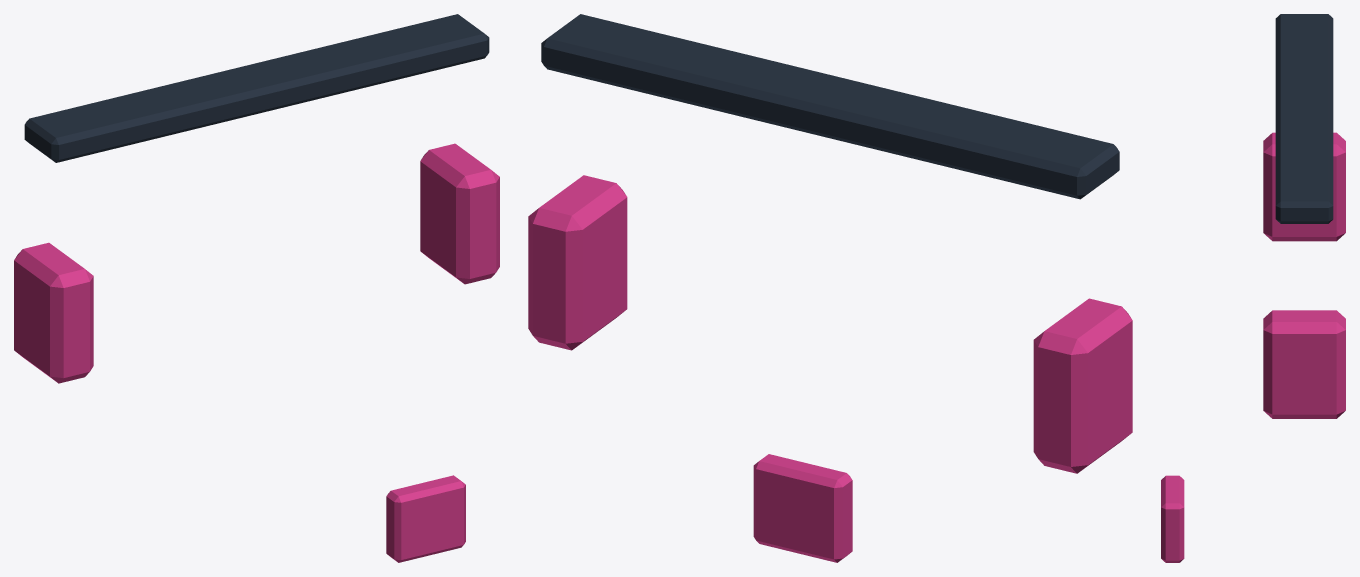
The model's file is influencer.glb.
3 renders of one model, left to right at view 1: azimuth 30°, elevation 25°; view 2: azimuth 150°, elevation 25°; view 3: azimuth 270°, elevation 25°, orthographic. The views are drawn at different scales.
Parts seen in each view (by area): view 1: influencer_head, influencer_torso; view 2: influencer_head, influencer_torso; view 3: influencer_head, influencer_torso.
Boxes of the visible parts, x1=… form: influencer_head: x1=14, y1=14, x2=499, y2=383; influencer_torso: x1=386, y1=475, x2=465, y2=562; influencer_head: x1=528, y1=14, x2=1132, y2=473; influencer_torso: x1=753, y1=454, x2=852, y2=562; influencer_head: x1=1263, y1=14, x2=1345, y2=418; influencer_torso: x1=1161, y1=475, x2=1184, y2=562.
Size of the model in its own units: 0.565 by 0.535 by 0.224.
